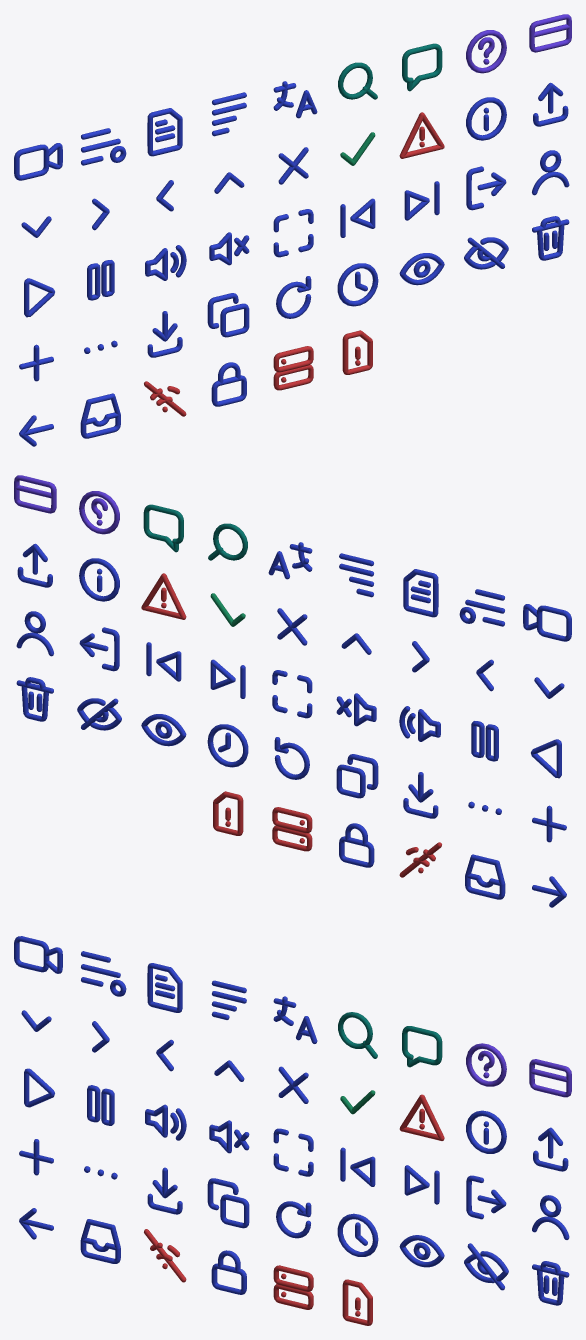
Rendered from rs_icons.glb.
3 renders of one model, top to bottom at view 1: azimuth 30°, elevation 25°; view 2: azimuth 150°, elevation 25°; view 3: azimuth 330°, elevation 25°, orthographic.
Parts seen in each view (by area): view 1: Icon_server-off, Icon_transcript, Icon_trash, Icon_empty-inbox, Icon_quiz, Icon_copy, Icon_flashcard, Icon_video, Icon_eye-off, Icon_pause, Icon_alert, Icon_clock (+21 smaller); view 2: Icon_server-off, Icon_transcript, Icon_trash, Icon_empty-inbox, Icon_quiz, Icon_copy, Icon_flashcard, Icon_video, Icon_eye-off, Icon_pause, Icon_alert, Icon_clock (+21 smaller); view 3: Icon_transcript, Icon_server-off, Icon_trash, Icon_empty-inbox, Icon_copy, Icon_eye-off, Icon_quiz, Icon_flashcard, Icon_video, Icon_pause, Icon_clock, Icon_alert (+21 smaller).
Boxes of the visible parts, <box> form: Icon_server-off: <box>273,346,313,390</box>; Icon_transcript: <box>147,108,182,156</box>; Icon_trash: <box>532,216,569,260</box>; Icon_empty-inbox: <box>80,393,120,438</box>; Icon_quiz: <box>466,30,506,73</box>; Icon_copy: <box>207,293,249,337</box>; Icon_flashcard: <box>529,14,571,52</box>; Icon_video: <box>14,143,62,180</box>; Icon_eye-off: <box>464,237,508,269</box>; Icon_pause: <box>87,260,114,300</box>; Icon_alert: <box>399,112,444,158</box>; Icon_clock: <box>337,263,378,306</box>; Icon_server-off: <box>272,807,312,851</box>; Icon_transcript: <box>403,569,438,617</box>; Icon_trash: <box>16,677,53,721</box>; Icon_empty-inbox: <box>465,854,505,899</box>; Icon_quiz: <box>79,491,119,534</box>; Icon_copy: <box>336,754,378,798</box>; Icon_flashcard: <box>14,475,56,513</box>; Icon_video: <box>523,604,571,641</box>; Icon_eye-off: <box>77,698,121,730</box>; Icon_pause: <box>471,721,498,761</box>; Icon_alert: <box>141,573,186,619</box>; Icon_clock: <box>207,724,248,767</box>; Icon_transcript: <box>147,963,182,1012</box>; Icon_server-off: <box>273,1265,313,1309</box>; Icon_trash: <box>532,1261,569,1305</box>; Icon_empty-inbox: <box>80,1219,120,1263</box>; Icon_copy: <box>207,1178,249,1228</box>; Icon_eye-off: <box>464,1243,508,1290</box>; Icon_quiz: <box>466,1043,506,1086</box>; Icon_flashcard: <box>529,1059,571,1097</box>; Icon_video: <box>14,936,62,973</box>; Icon_pause: <box>87,1085,114,1125</box>; Icon_clock: <box>337,1213,378,1256</box>; Icon_alert: <box>399,1094,444,1140</box>.
Bounding box in the file's own units: 11.28 × 6.03 × 0.12.
